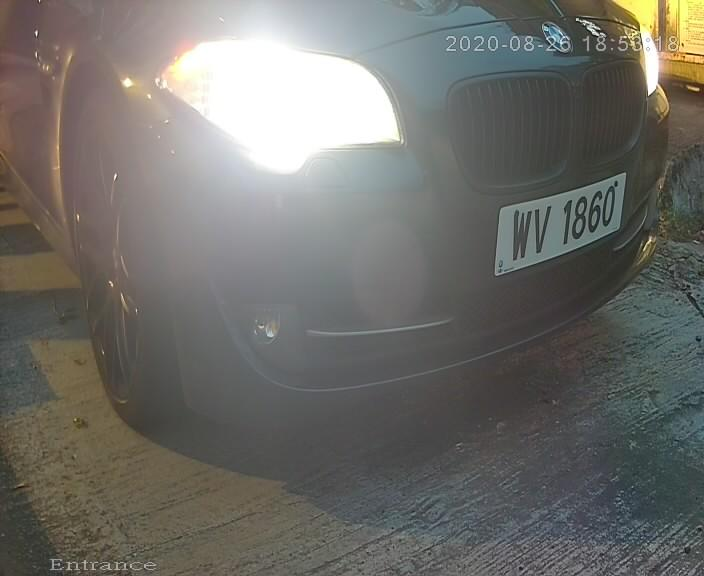License Plate: (478, 155, 633, 284)
